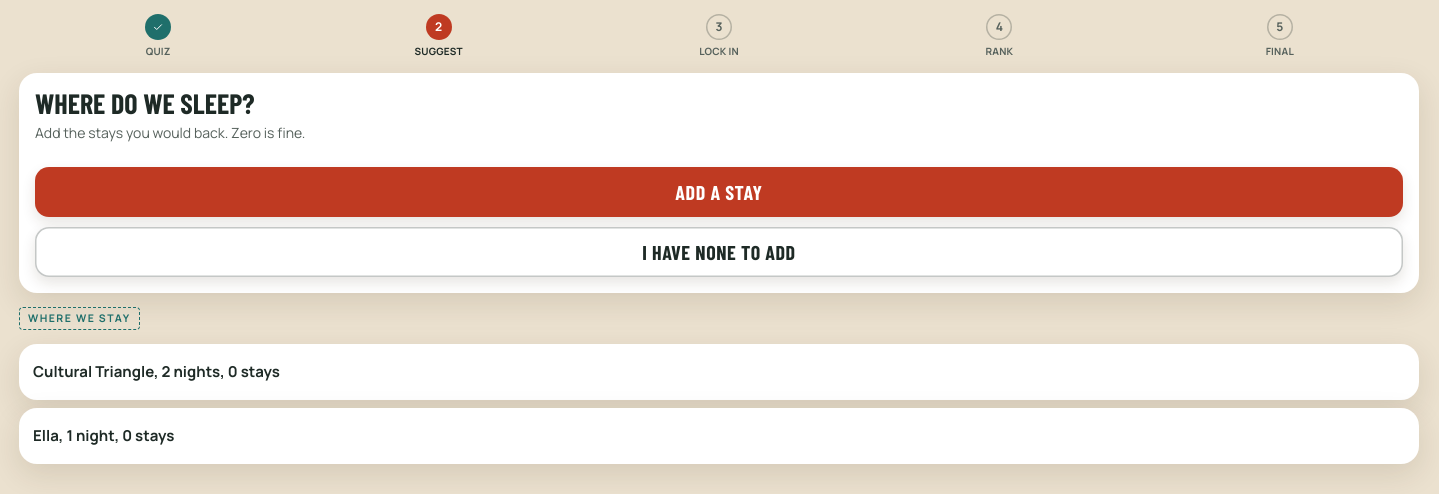
Test: Brittany sets stay nights › More nights stores the override, the board and the itinerary note use it, and returning to the itinerary count clears it
The image size is (1439, 494).
Expected: the list named "Stays steps" is shown, [145,14,1294,58]
What coordinates should you click on to do the following:
click the button "Ella, 1 night, 0 stays"
I would click on:
 (104, 436)
Its box is [19,408,1419,464].
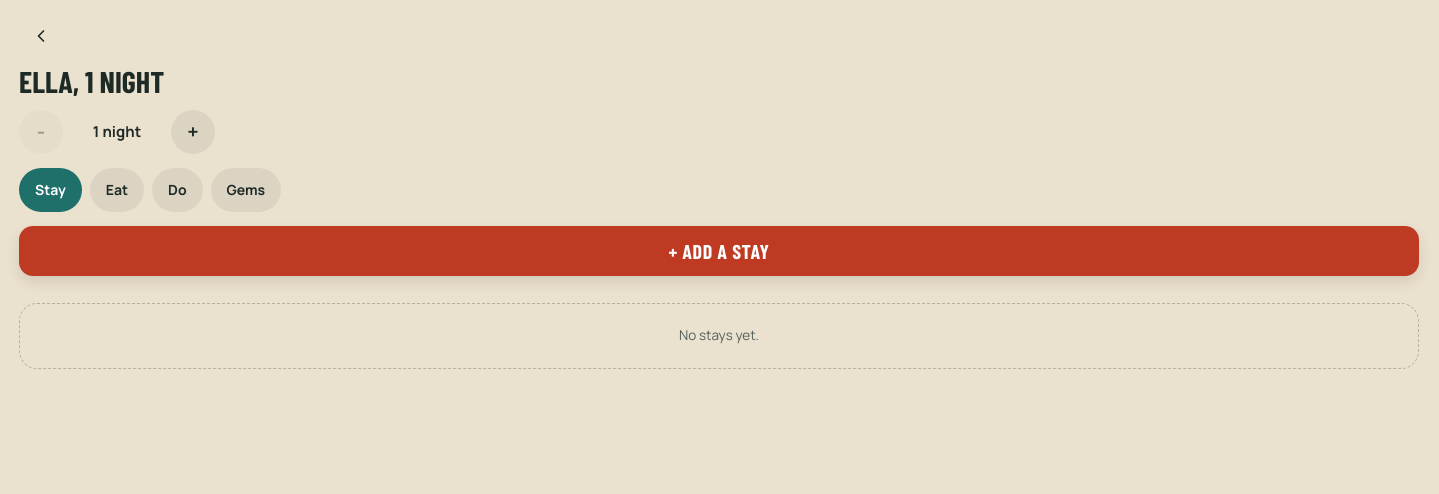
Expected: the text "The itinerary still has" is not shown
Expected: the element named "Stay nights in Ella" shows "1 night", [19,110,215,154]
What coordinates should you click on to do the following:
click the button named "More nights"
I would click on:
 (193, 132)
Its box is [171,110,215,154].
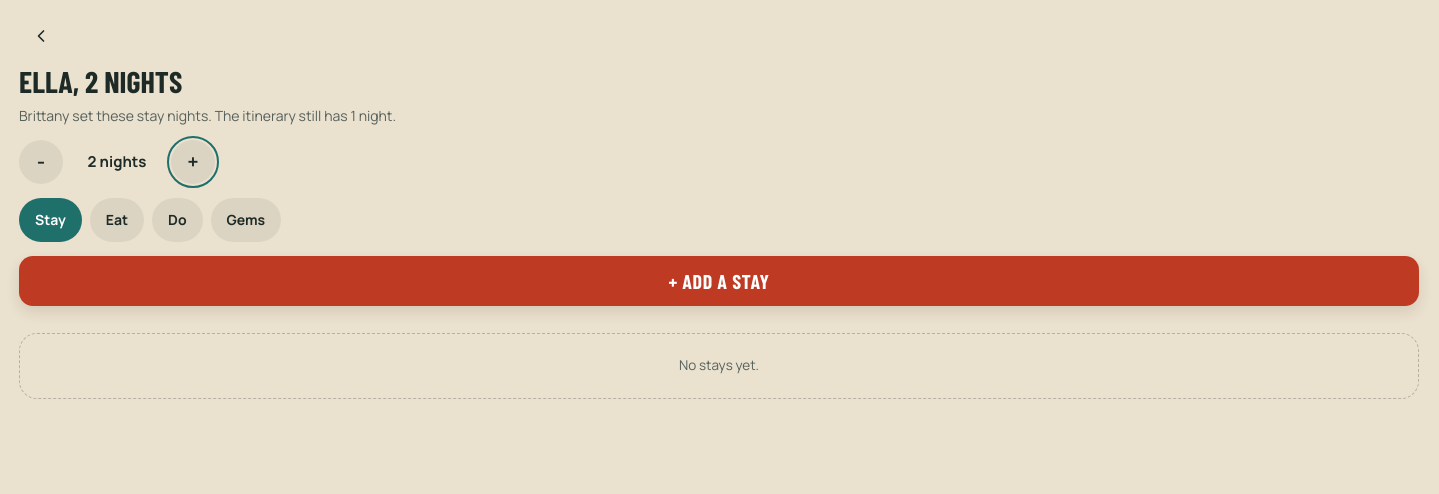
Expected: the heading "Ella, 2 nights" is shown, [19,63,182,99]
Expected: the text "Brittany set these stay nights. The itinerary still has 1 night." is shown, [19,106,396,125]
What coordinates should you click on to do the following:
click the button named "Fewer nights"
I would click on:
 (41, 162)
Its box is [19,140,63,184].
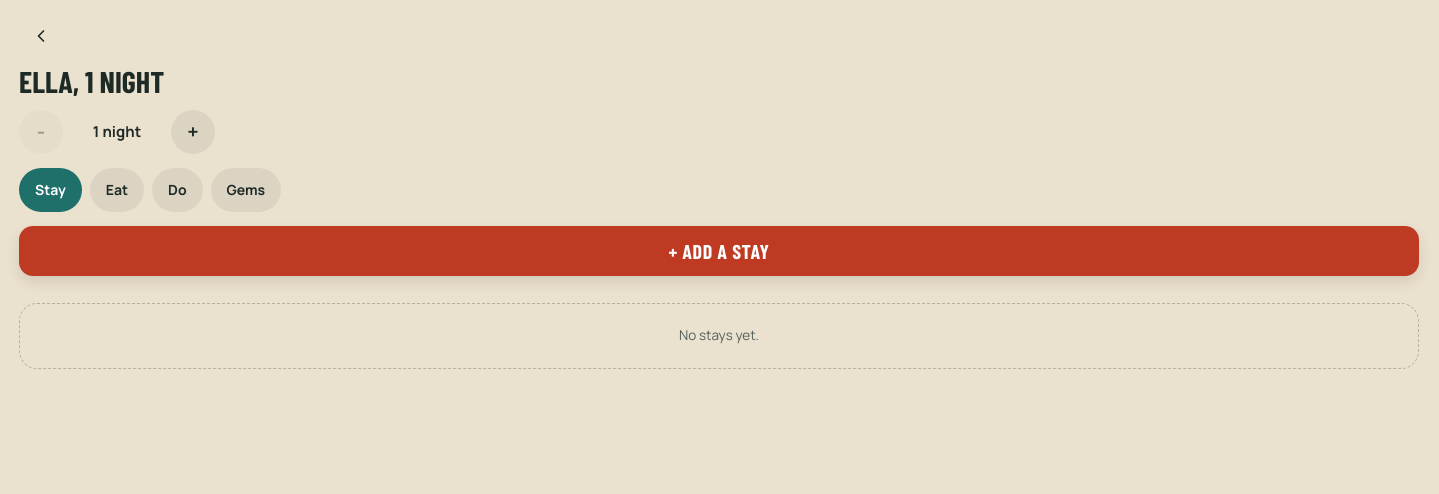
Expected: the text "The itinerary still has" is gone
